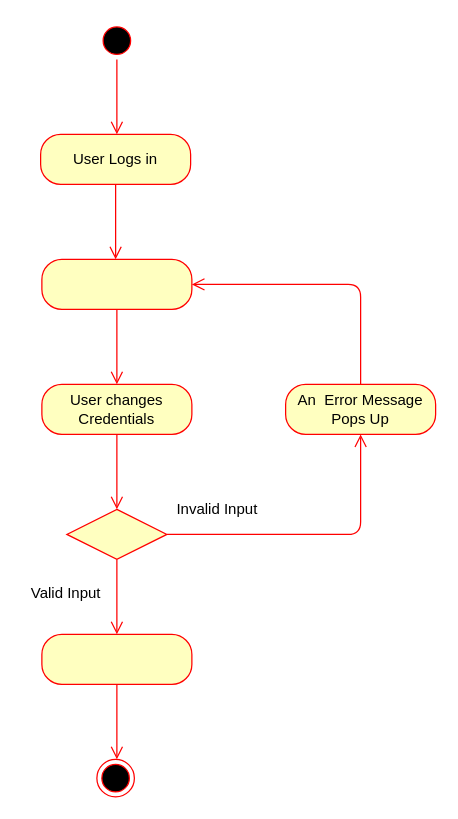
The diagram is 458 pixels wide and 819 high, and some of its shapes have lost their labels. The centre of each missing label's shape, as x and y in pixels:
"Credentials are Updated" goes at [116,658].
"Settings" goes at [116,283].
